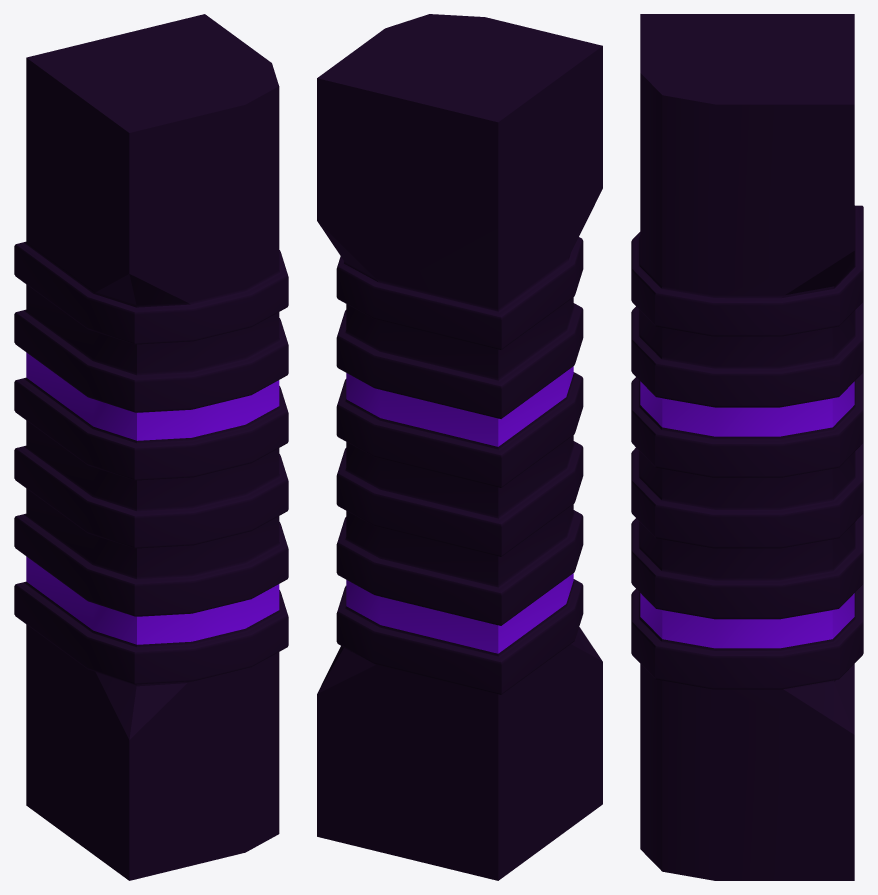
Rendered from cornerPurple.fbx.
3 views of the same model, side by side, from view 1: azimuth 30°, elevation 25°; view 2: azimuth 150°, elevation 25°; view 3: azimuth 270°, elevation 25° (orthographic). The views are drawn at different scales.
Parts seen in each view (by area): view 1: pCube1; view 2: pCube1; view 3: pCube1.
Part boxes in pixels (x1=…): pCube1: x1=14, y1=14, x2=288, y2=880; pCube1: x1=317, y1=14, x2=602, y2=880; pCube1: x1=631, y1=14, x2=863, y2=880.
Bounding box in the file's own units: 1.08 × 4 × 1.08.
